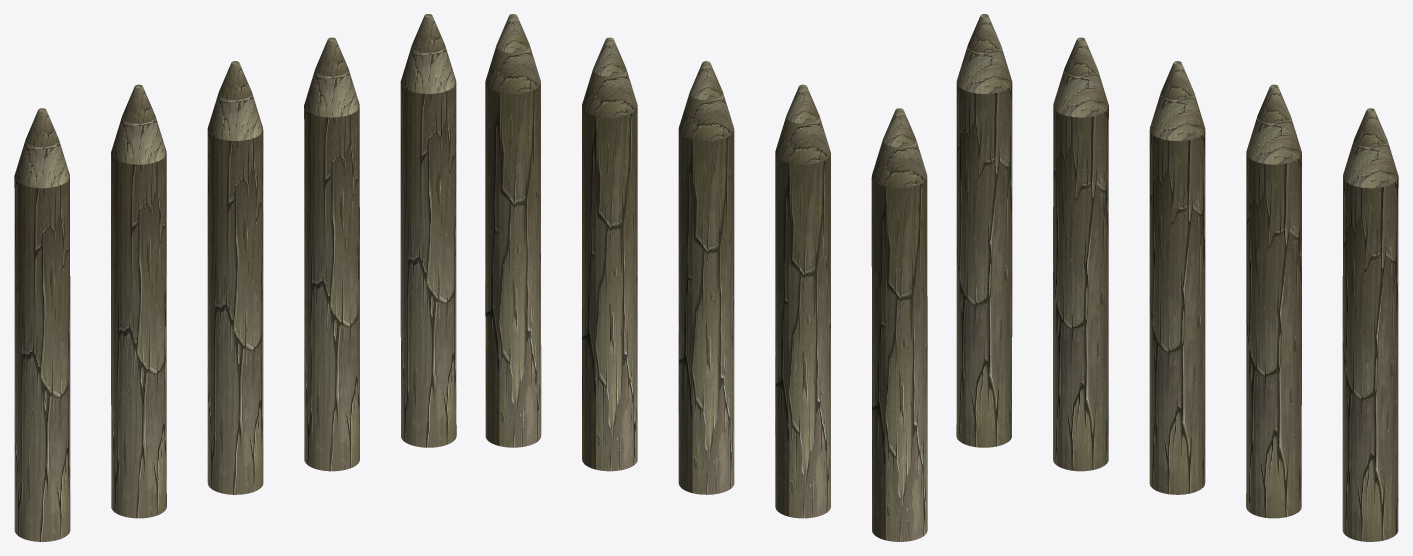
File: spike.fbx
The picture shows the model from 3 angles, left to right: view 1: azimuth 30°, elevation 25°; view 2: azimuth 150°, elevation 25°; view 3: azimuth 330°, elevation 25°; orthographic projection.
Parts seen in each view (by area): view 1: spike; view 2: spike; view 3: spike.
Boxes of the visible parts, x1,y1,x2,y2 form: spike: [14, 14, 456, 541]; spike: [485, 14, 927, 541]; spike: [956, 14, 1398, 541].
Size of the model in its own units: 1594 by 1473 by 178.
